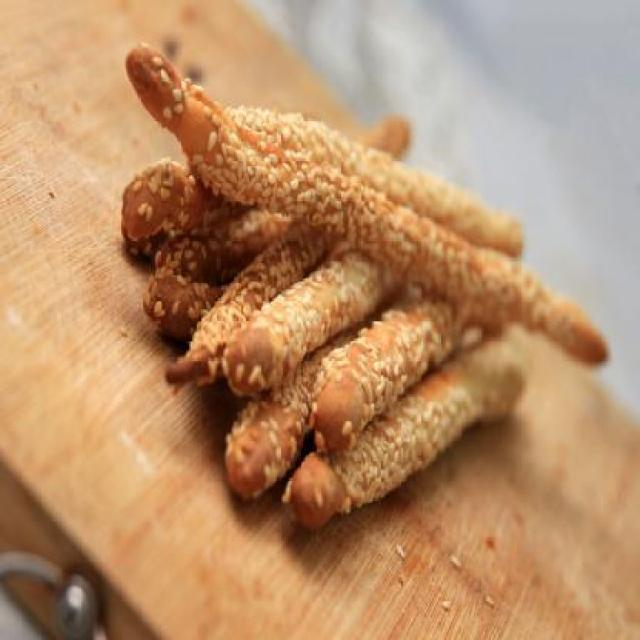Grissini: (115, 43, 612, 528)
